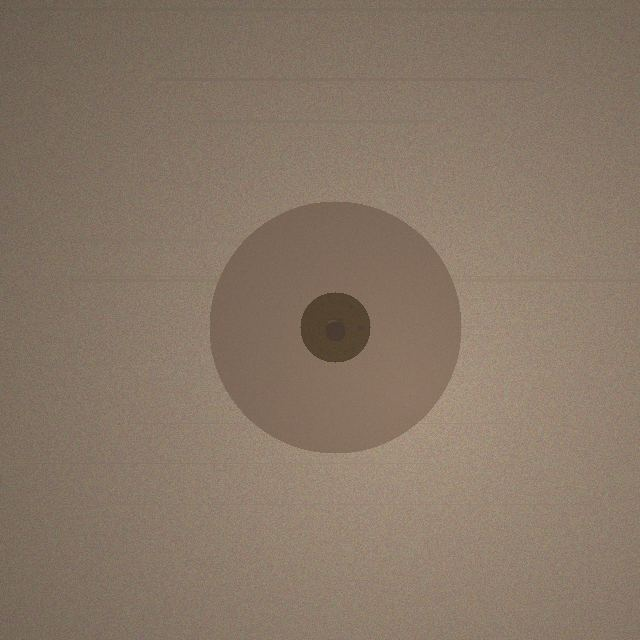cold_weld: (209, 201, 461, 453)
